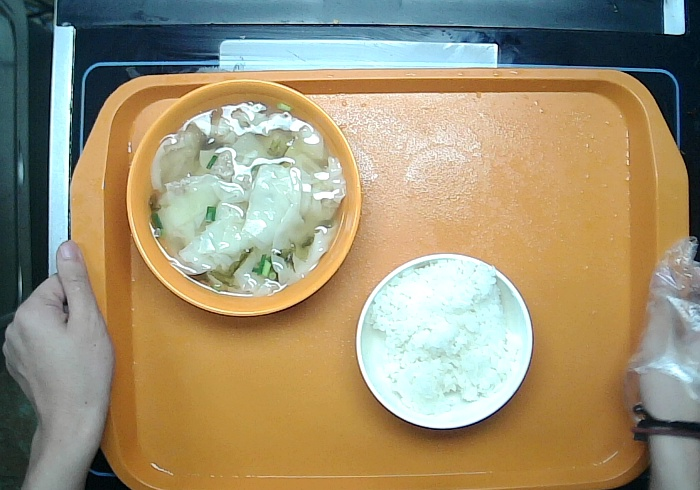NLDX-Fan_Wan: (353, 250, 535, 432)
NLDX-Hun_Tun_Wan: (125, 74, 364, 320)
